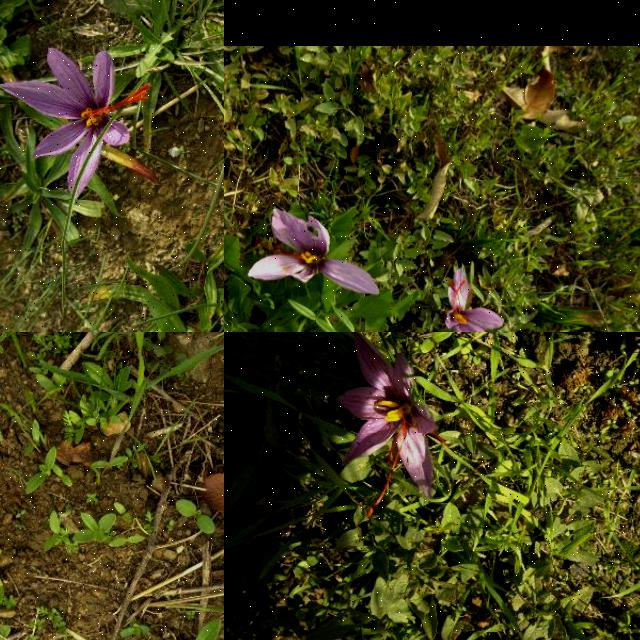flower: (2, 48, 150, 200), (336, 332, 445, 519), (246, 207, 380, 295), (445, 267, 505, 332)
